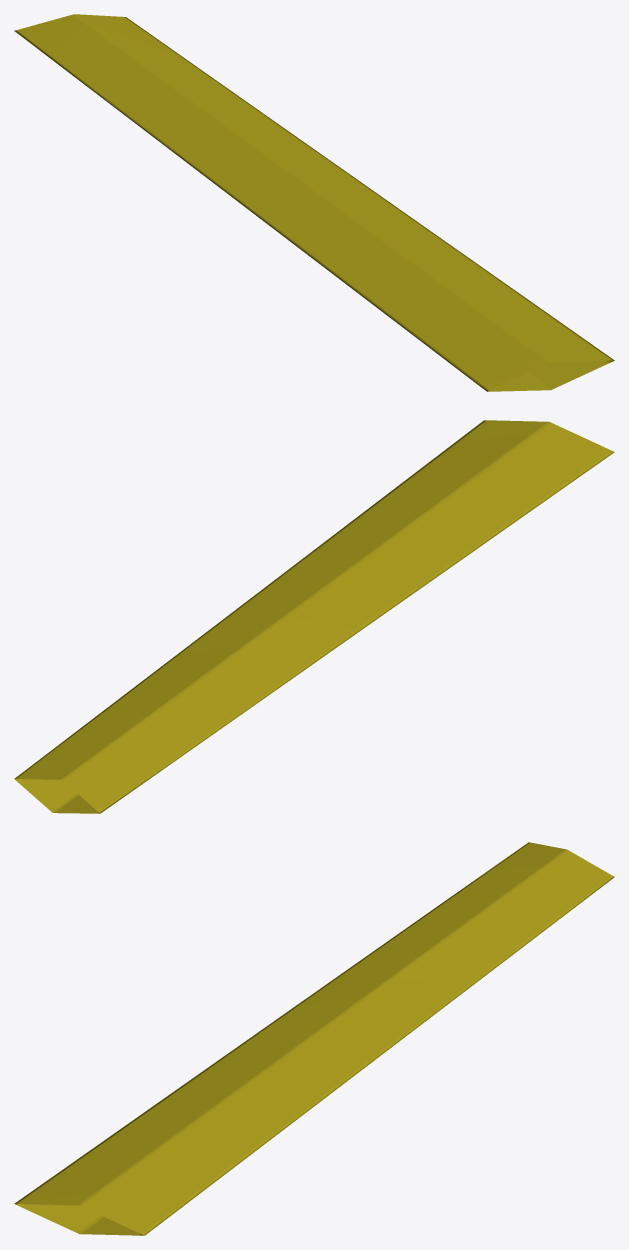
Rendered from body.fbx.
3 views of the same model, one above another, from view 1: azimuth 30°, elevation 25°; view 2: azimuth 150°, elevation 25°; view 3: azimuth 330°, elevation 25° (orthographic). The views are drawn at different scales.
Parts seen in each view (by area): view 1: Sword_LOD0.004; view 2: Sword_LOD0.004; view 3: Sword_LOD0.004.
Boxes of the visible parts, x1,y1,x2,y2 form: Sword_LOD0.004: [14, 14, 614, 391]; Sword_LOD0.004: [14, 420, 614, 813]; Sword_LOD0.004: [14, 842, 614, 1235].
Bounding box in the file's own units: 52.77 × 11.03 × 349.
